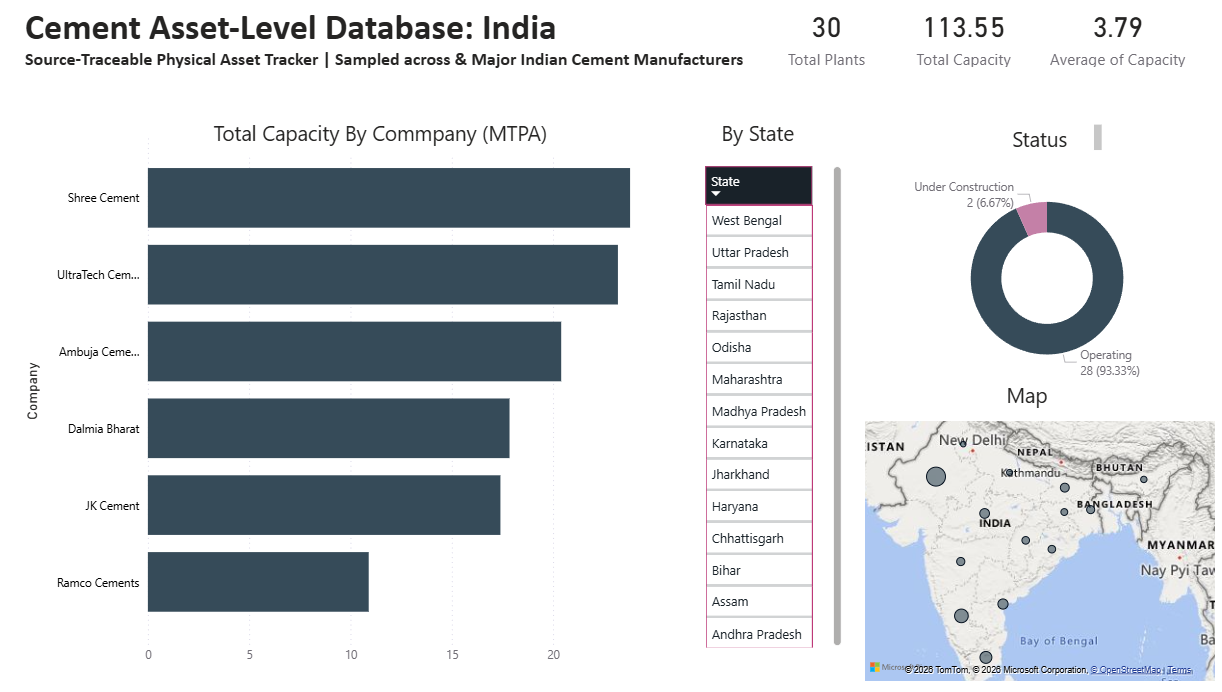

The page's visual inventory and layout, read from the dashboard file:
{"tool":"powerbi","page":{"name":"Page 1","canvas":[1280,720],"ordinal":0},"visuals":[{"type":"clusteredBarChart","fields":{"Category":["assets_cleaned.Company"],"Y":["Sum(assets_cleaned.Capacity_MTPA)"]},"box":[22.5,130,650,582.5],"z":0},{"type":"map","fields":{"Category":["assets_cleaned.State"],"Size":["Sum(assets_cleaned.Capacity_MTPA)"]},"box":[895,432.5,373.8,280],"z":1000},{"type":"donutChart","fields":{"Category":["assets_cleaned.Status"],"Y":["CountNonNull(assets_cleaned.Asset_ID)"]},"box":[908.8,178.8,360,220],"z":2000},{"type":"card","fields":{"Values":["Avg(assets_cleaned.Capacity_MTPA)"]},"box":[1076,0,172,74.7],"z":3000},{"type":"textbox","box":[22.7,0,812,84],"z":4000},{"type":"card","fields":{"Values":["Count(assets_cleaned.Plant_Name)"]},"box":[773.3,0,174.7,74.7],"z":5000},{"type":"card","fields":{"Values":["Sum(assets_cleaned.Capacity_MTPA)"]},"box":[928,0,148,74.7],"z":6000},{"type":"tableEx","title":"By State","fields":{"Values":["assets_cleaned.State"]},"box":[712.5,162.5,182.5,530],"z":7000},{"type":"textbox","box":[176.2,118.8,438.8,43.8],"z":8000},{"type":"textbox","box":[745,118.8,116.2,43.8],"z":9000},{"type":"textbox","box":[1047.5,125,102.5,37.5],"z":9001},{"type":"textbox","box":[1041.2,391.2,67.5,41.2],"z":9002}]}

Visuals, with their boxes in screenshot pixels (x1, y1, x2, y2), scaled from the page's 1280x720 canvas onto the 1222x692 screenshot:
clusteredBarChart - assets_cleaned.Company x Sum(assets_cleaned.Capacity_MTPA): (21, 125, 642, 685)
map - assets_cleaned.State x Sum(assets_cleaned.Capacity_MTPA): (854, 416, 1211, 685)
donutChart - assets_cleaned.Status x CountNonNull(assets_cleaned.Asset_ID): (868, 172, 1211, 383)
card - Avg(assets_cleaned.Capacity_MTPA): (1027, 0, 1191, 72)
textbox: (22, 0, 797, 81)
card - Count(assets_cleaned.Plant_Name): (738, 0, 905, 72)
card - Sum(assets_cleaned.Capacity_MTPA): (886, 0, 1027, 72)
"By State" tableEx: (680, 156, 854, 666)
textbox: (168, 114, 587, 156)
textbox: (711, 114, 822, 156)
textbox: (1000, 120, 1098, 156)
textbox: (994, 376, 1058, 416)
